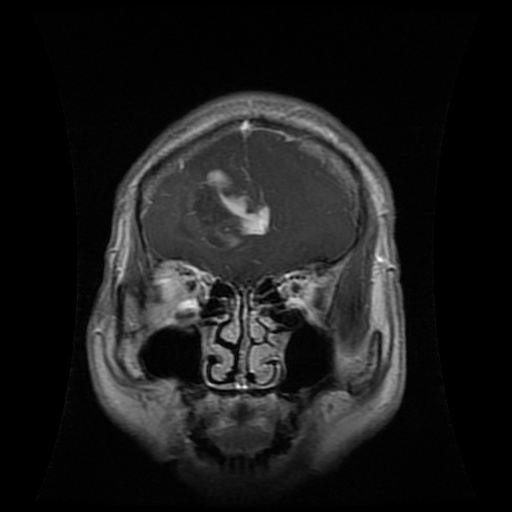glioma: (187, 169, 270, 251)
